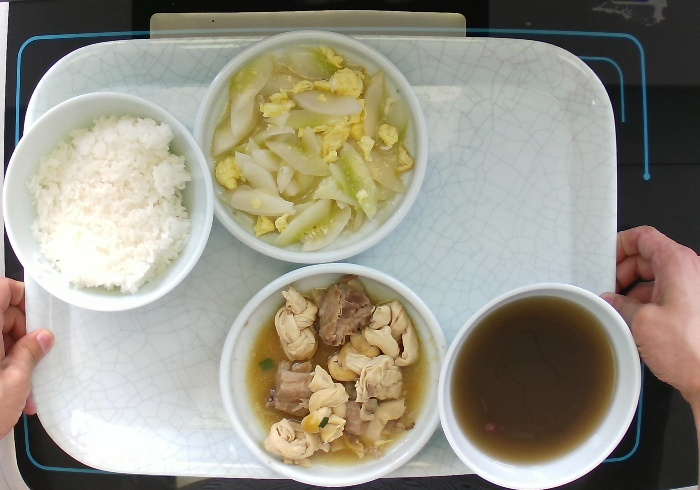JYsf-Fan_Wan: (2, 89, 216, 313), (435, 280, 644, 489)
JYsf-Xiao_Yuan_Pan: (191, 27, 431, 266), (217, 260, 448, 489)
